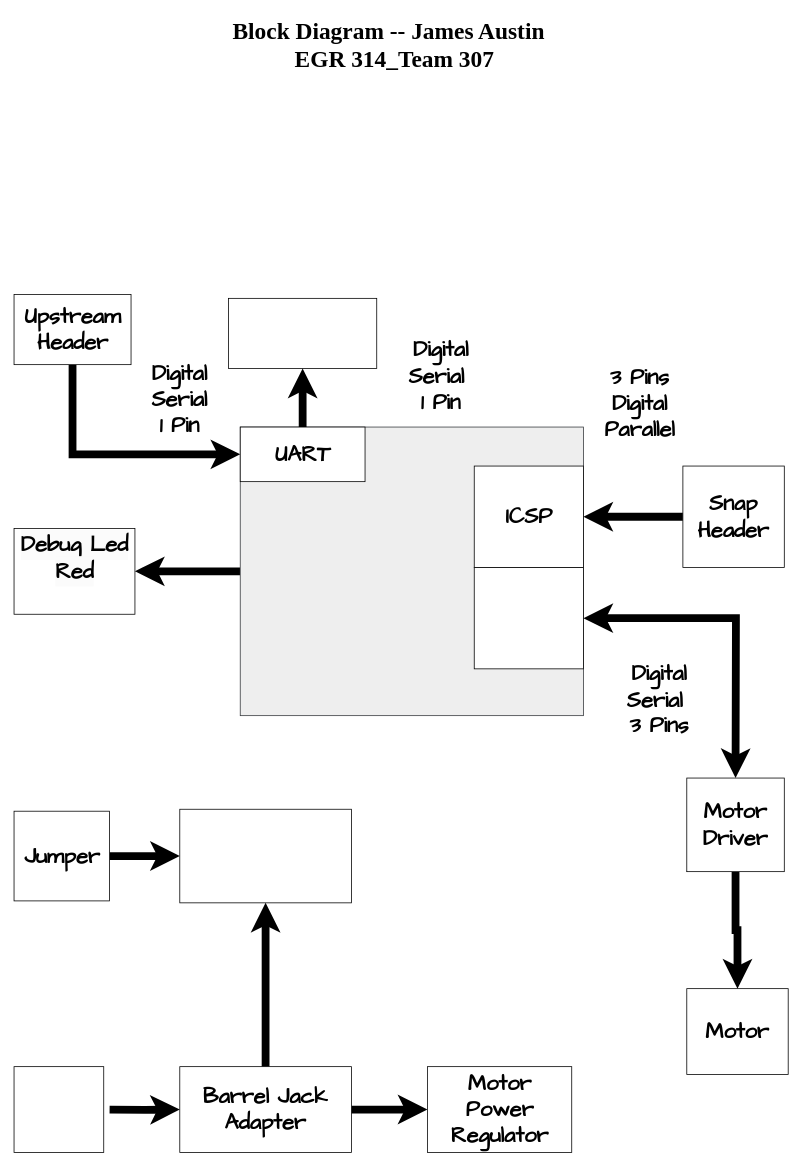
Some shapes in this 802 by 1166 pixel diagram are drawn without their labels. The box of each missing label's shape, as (x1, y1, x2, y2) in pixels:
Downstream Header: (228, 298, 377, 369)
PIC18F47Q10 Pin 28: (239, 426, 583, 716)
Power In: (13, 1066, 104, 1152)
SPI: (473, 567, 583, 669)
Suppler TBD 3v3 Switching Power Supply: (179, 808, 351, 903)
